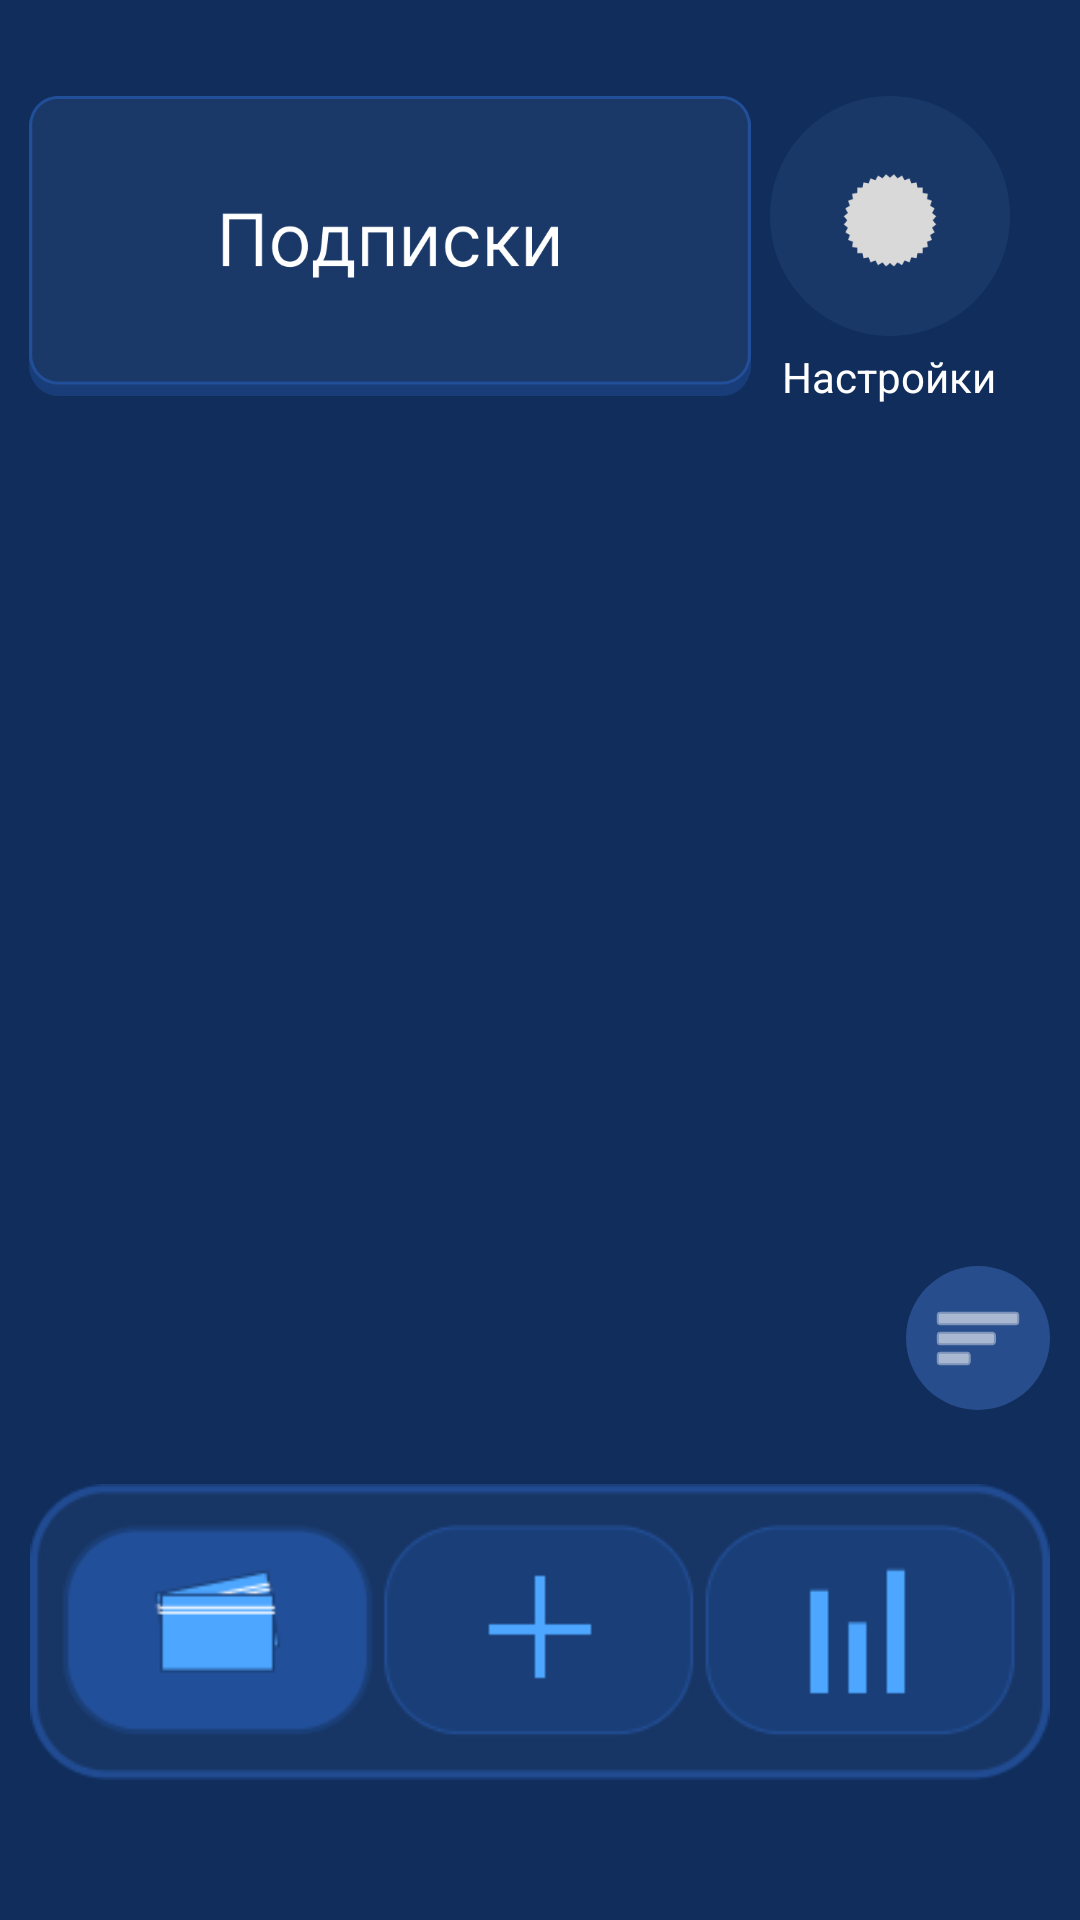

Named icons in this screenshot (1080*1920) and their bounding boxes, box=[x1, y1, x2, y2]:
Сортировка: box=[906, 1266, 1050, 1410]
